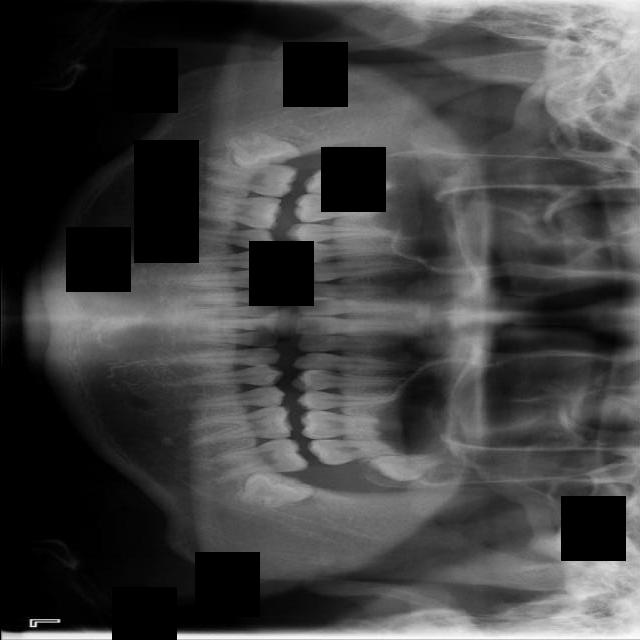73: (25, 605, 35, 613)
BioHorizons Implant: (305, 439, 407, 466)
BioLife Implant: (367, 455, 439, 482)
Biomet 3i Implant: (236, 465, 318, 520)
Blue Sky Bio Implant: (213, 436, 309, 481)
Caries: (303, 167, 396, 195)
Implant: (205, 163, 298, 197)
Keystone Dental Implant: (226, 120, 301, 177)
